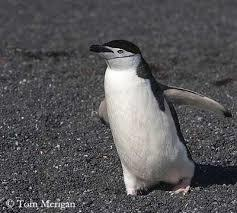chinstrap: (74, 29, 216, 191)
